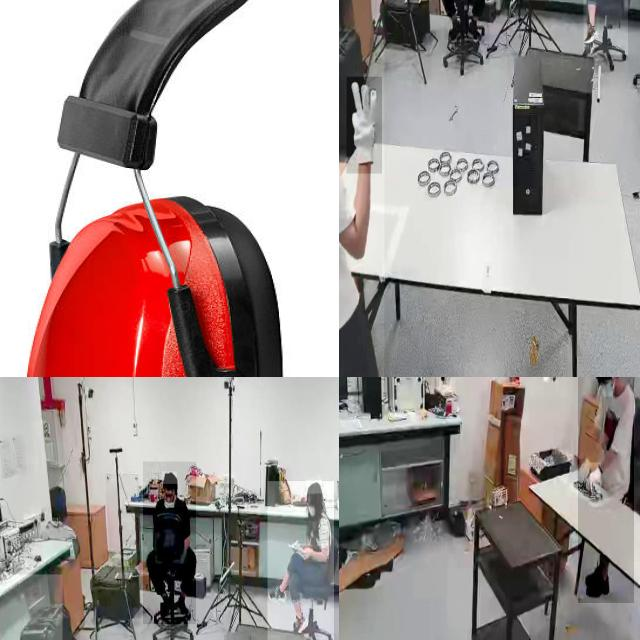Ear-protection: (6, 0, 339, 377)
face_mask: (304, 495, 318, 521), (603, 377, 614, 396)
hand_glove: (346, 76, 382, 174), (577, 459, 590, 491), (591, 462, 601, 498)
hand_noglove: (299, 544, 313, 560)
head_nohelmet: (162, 471, 178, 485), (306, 480, 322, 494)
person: (339, 0, 385, 377), (577, 377, 634, 603), (267, 481, 334, 640), (143, 462, 197, 625), (583, 0, 628, 55), (444, 0, 489, 40)
shoes: (581, 566, 611, 606), (266, 583, 290, 604), (467, 14, 482, 46), (176, 593, 193, 621), (582, 19, 598, 48), (291, 610, 308, 636), (157, 594, 173, 620)
